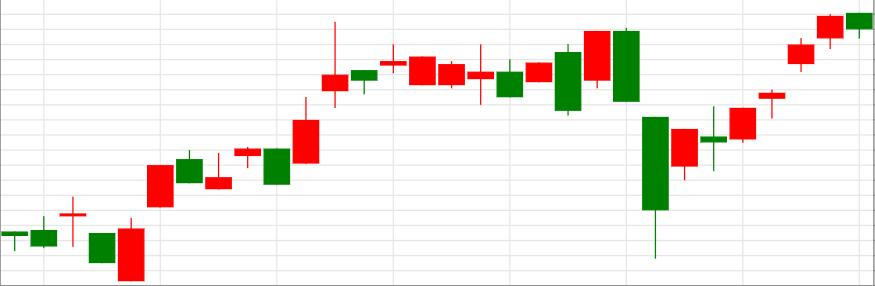bearish_engulfing_fall: (263, 21, 641, 185)
